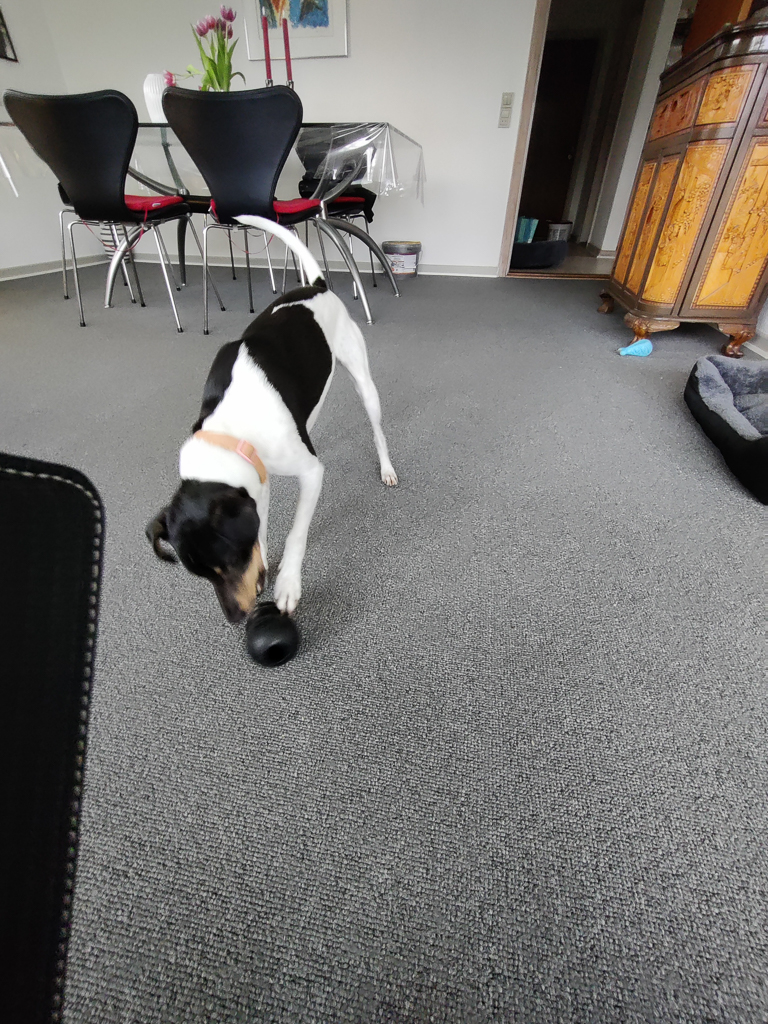Dog: (130, 199, 416, 656)
